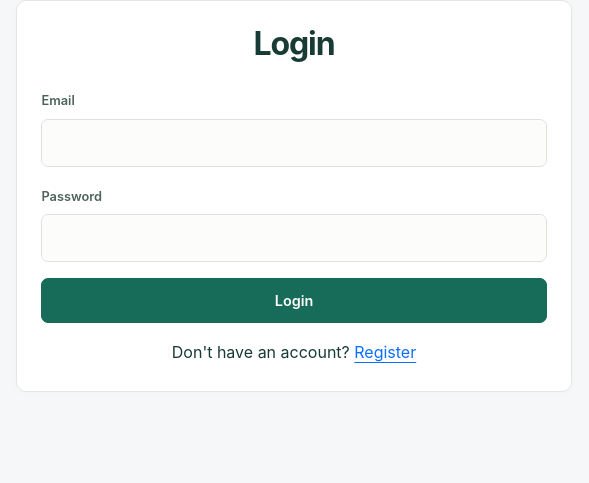
Login page › shows the server's message when the password is wrong, and stays on the page
Type "ali@test.com" into the field labelled "Email" at (294, 143), box 41,119 -> 547,167
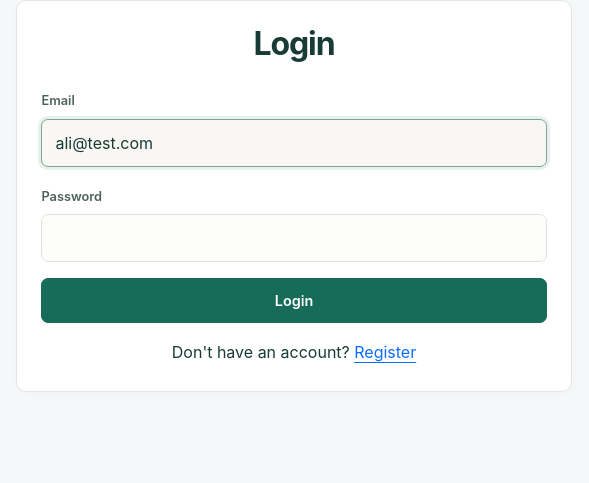
Type "wrong" into the password field labelled "Password" at (294, 238), box 41,214 -> 547,262
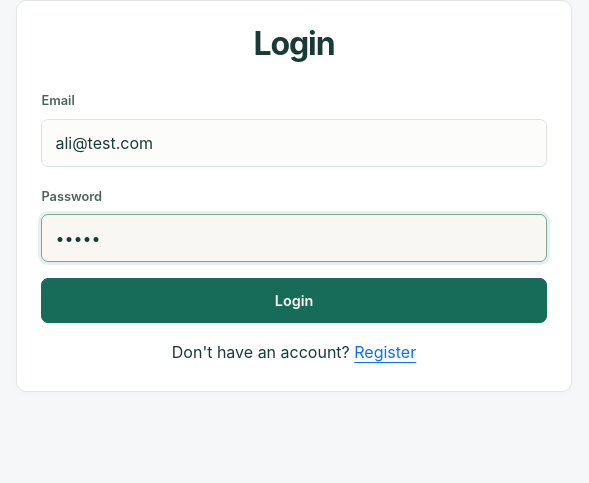
Click the button "Login" at (294, 301), box 41,278 -> 547,323
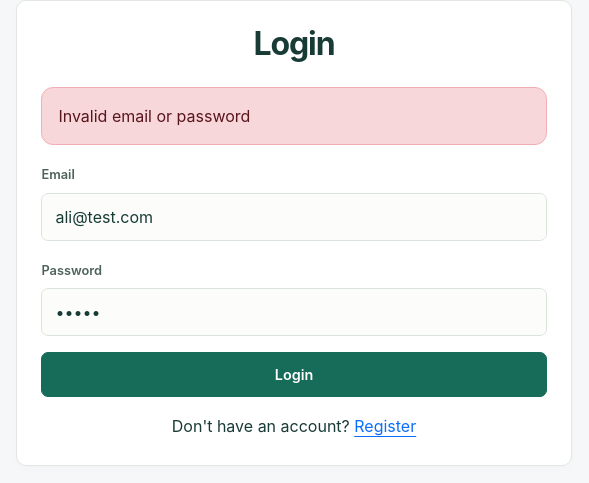
Now the text "Invalid email or password" is shown, box 41,87 -> 547,145
